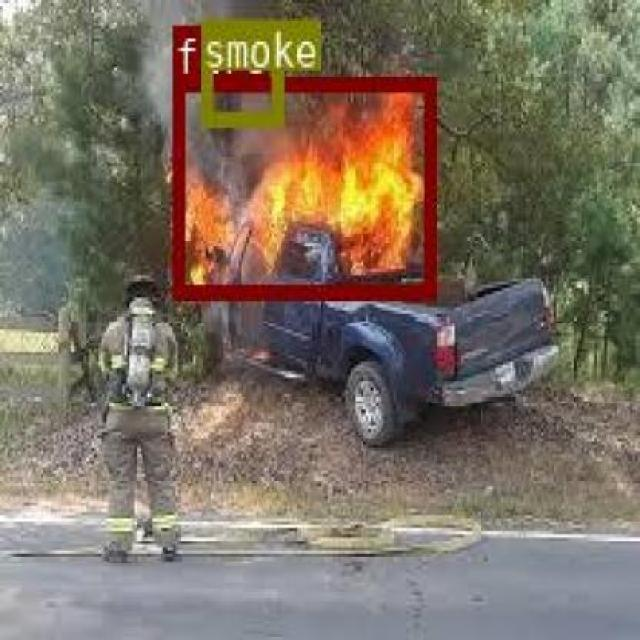Fire: (171, 76, 432, 298)
Smoke: (200, 19, 280, 124)
